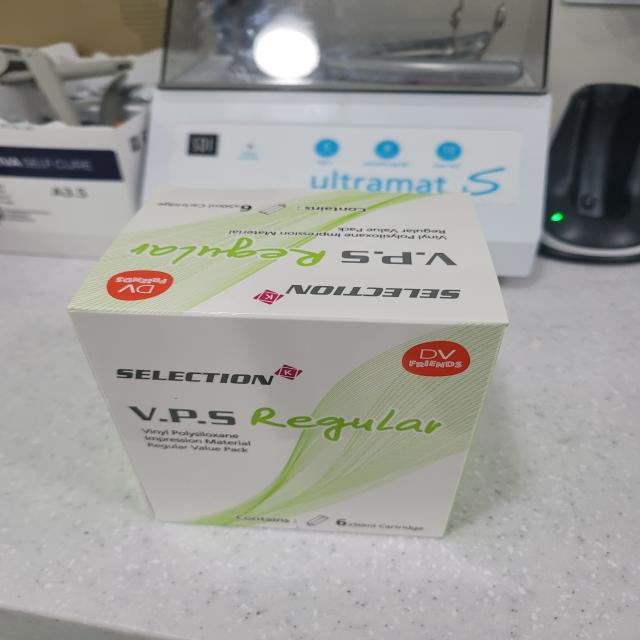impression: (57, 170, 528, 560)
